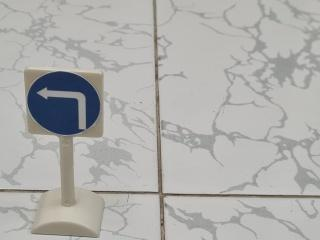left: (20, 66, 103, 139)
